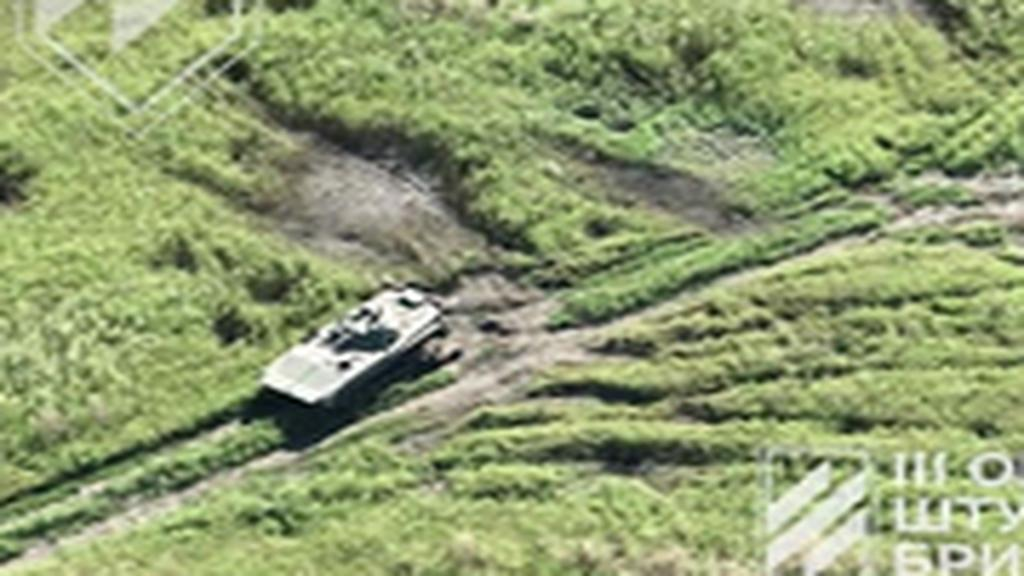APC-IFV: (250, 276, 452, 428)
